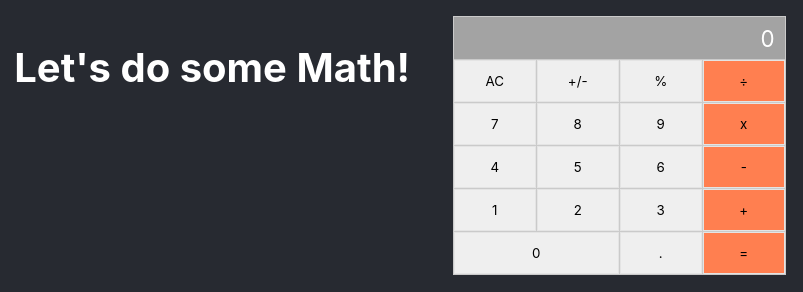
User interaction › Validate AC
Click the button "4".
click(495, 167)  # box 455,147 -> 535,187
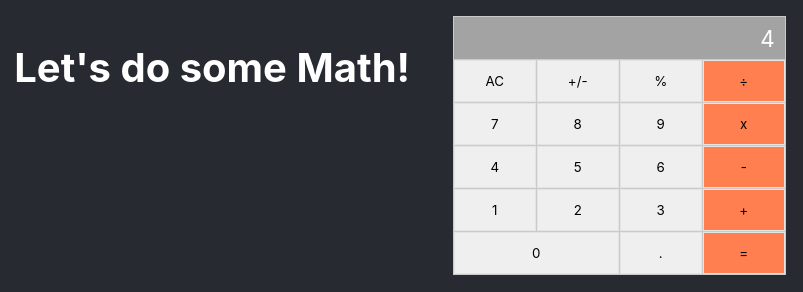
Click the button "AC".
click(495, 81)  # box 455,61 -> 535,101
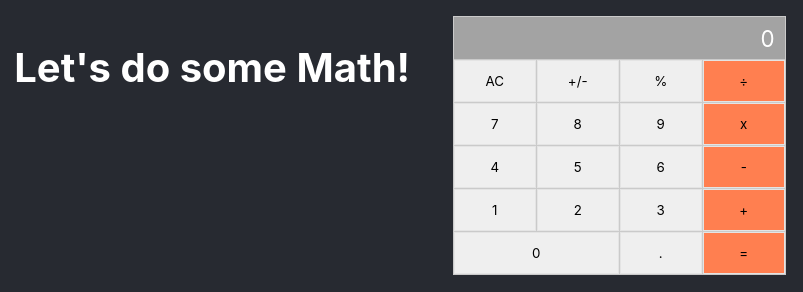
Expected: the 1st cell "0" is shown, 453,17 -> 785,60
